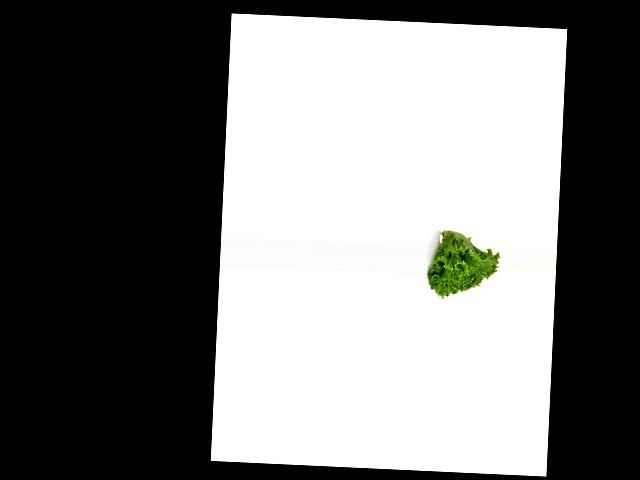lettuce: (426, 225, 503, 304)
